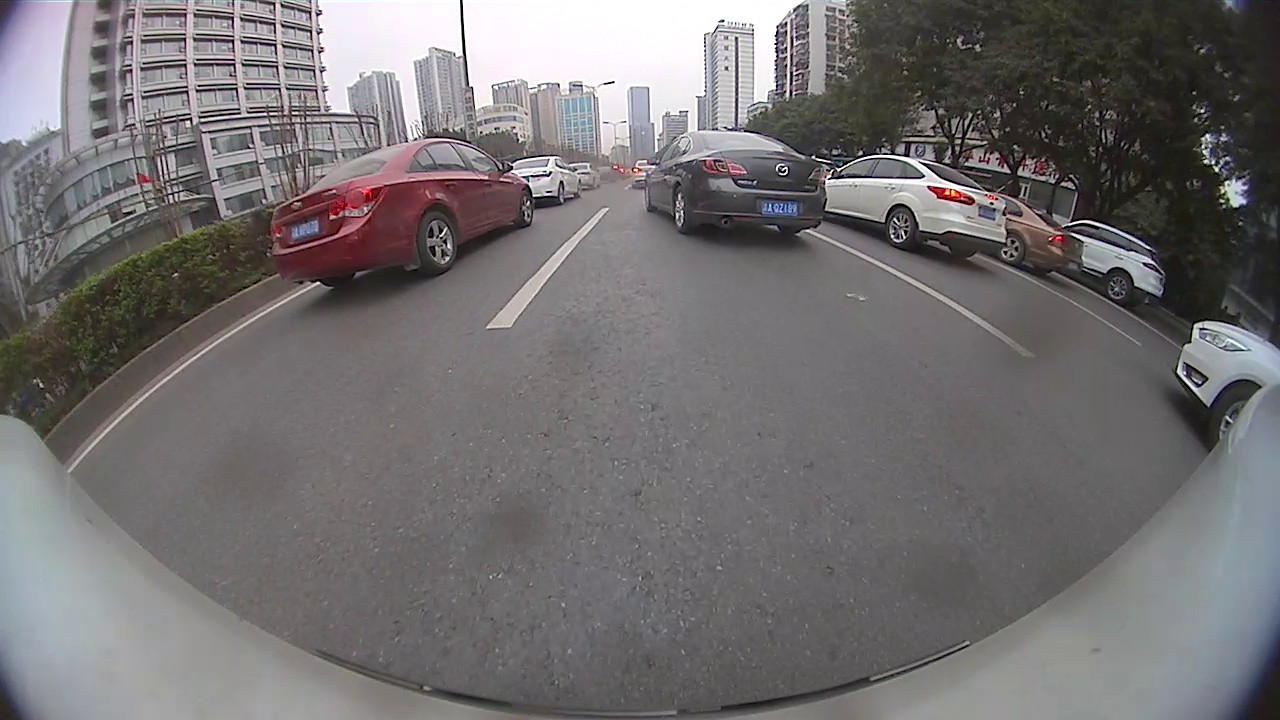car: (269, 140, 532, 287), (641, 134, 831, 240), (826, 153, 1010, 258), (1173, 319, 1279, 448), (1066, 217, 1169, 309), (1000, 197, 1084, 277), (511, 153, 583, 203)
front: (1206, 381, 1265, 452), (517, 190, 534, 229)
rear: (417, 213, 458, 273), (884, 207, 918, 249), (1103, 267, 1134, 304), (997, 230, 1024, 266), (673, 183, 692, 232)
